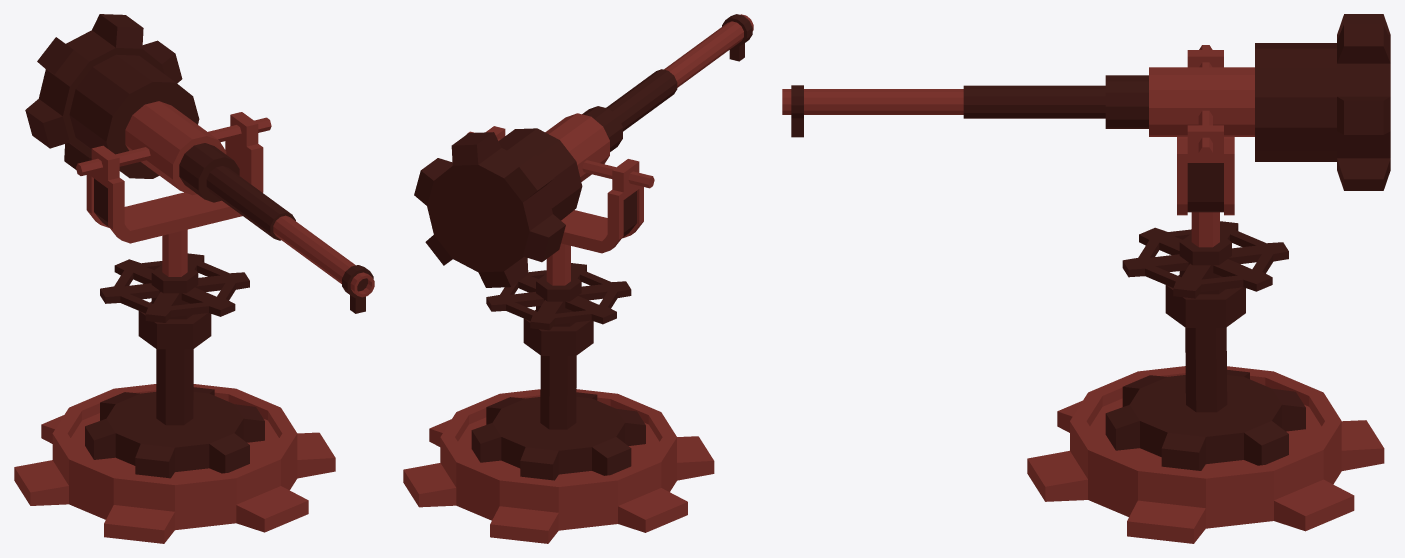
Rendered from Gun_2.glb.
3 renders of one model, left to right at view 1: azimuth 30°, elevation 25°; view 2: azimuth 150°, elevation 25°; view 3: azimuth 270°, elevation 25°, orthographic. The views are drawn at different scales.
Visible parts, largest first — view 1: Gun_2_Base, Gun_2_Gun, Gun_2_Mid; view 2: Gun_2_Base, Gun_2_Gun, Gun_2_Mid; view 3: Gun_2_Base, Gun_2_Gun, Gun_2_Mid.
Part boxes in pixels (box(x1,y1,x2,y2)): Gun_2_Base: box(14, 384, 335, 543); Gun_2_Gun: box(25, 14, 374, 313); Gun_2_Mid: box(76, 112, 271, 425); Gun_2_Base: box(403, 389, 714, 543); Gun_2_Gun: box(414, 14, 753, 287); Gun_2_Mid: box(466, 126, 654, 429); Gun_2_Base: box(1027, 366, 1384, 543); Gun_2_Gun: box(782, 14, 1390, 190); Gun_2_Mid: box(1122, 45, 1288, 412).
Bounding box in the file's own units: 0.9224 × 1.28 × 1.57.
